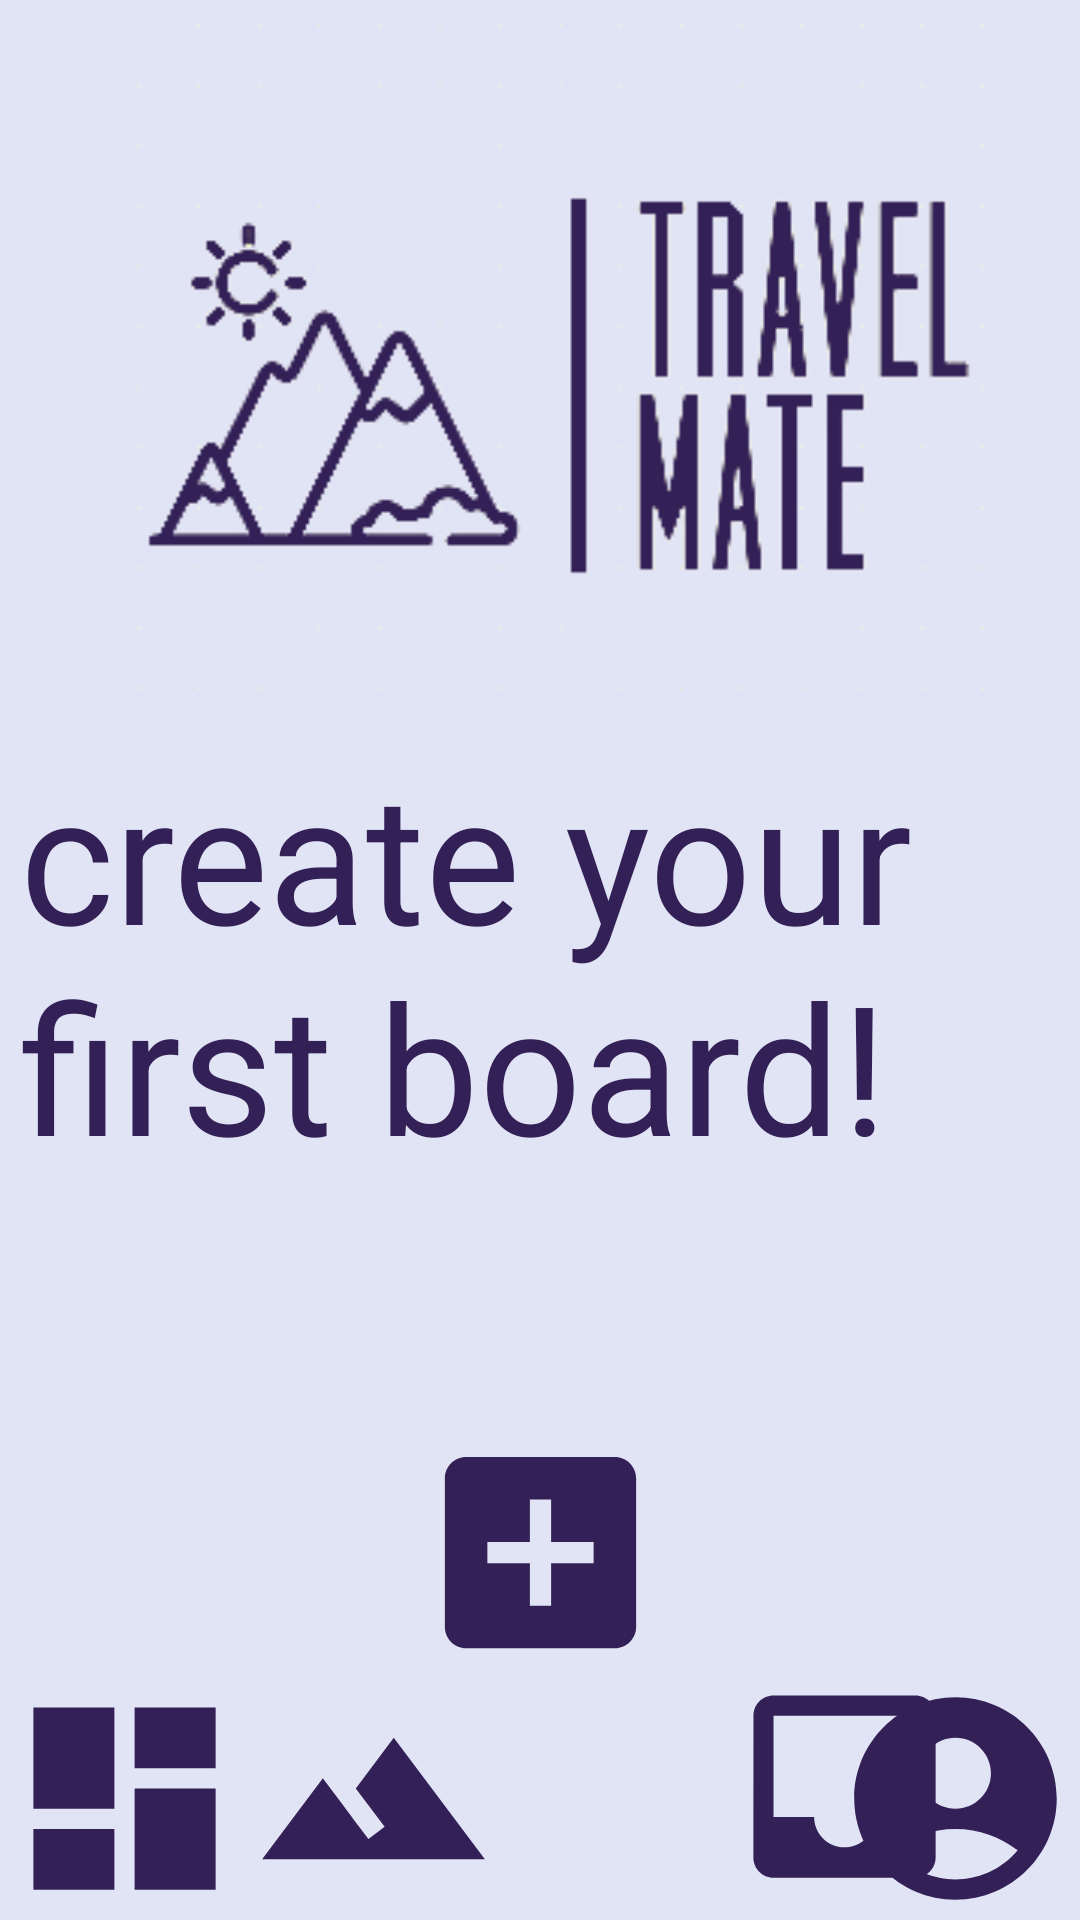

Point at icon controls on the screen. Image size 1080px x 1920px, points as (x,y).
add box: (540,1553)
dashboard: (124,1798)
landscape: (373,1799)
